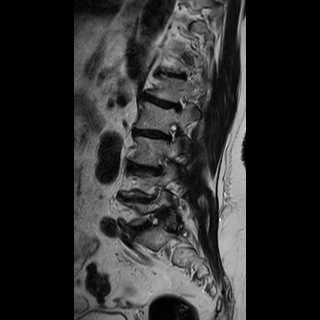LFS0: (161, 119, 183, 147)
